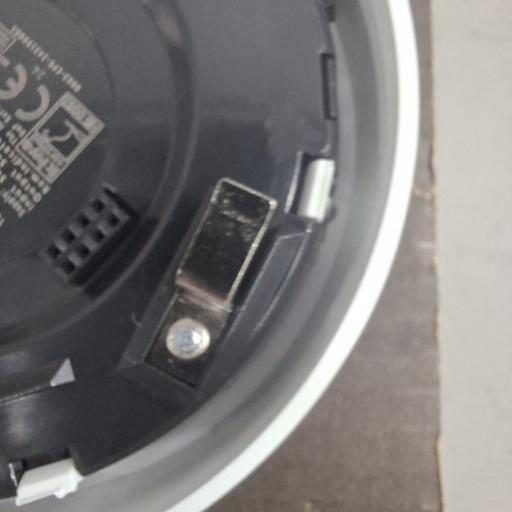yaysiz: (143, 177, 277, 390)
